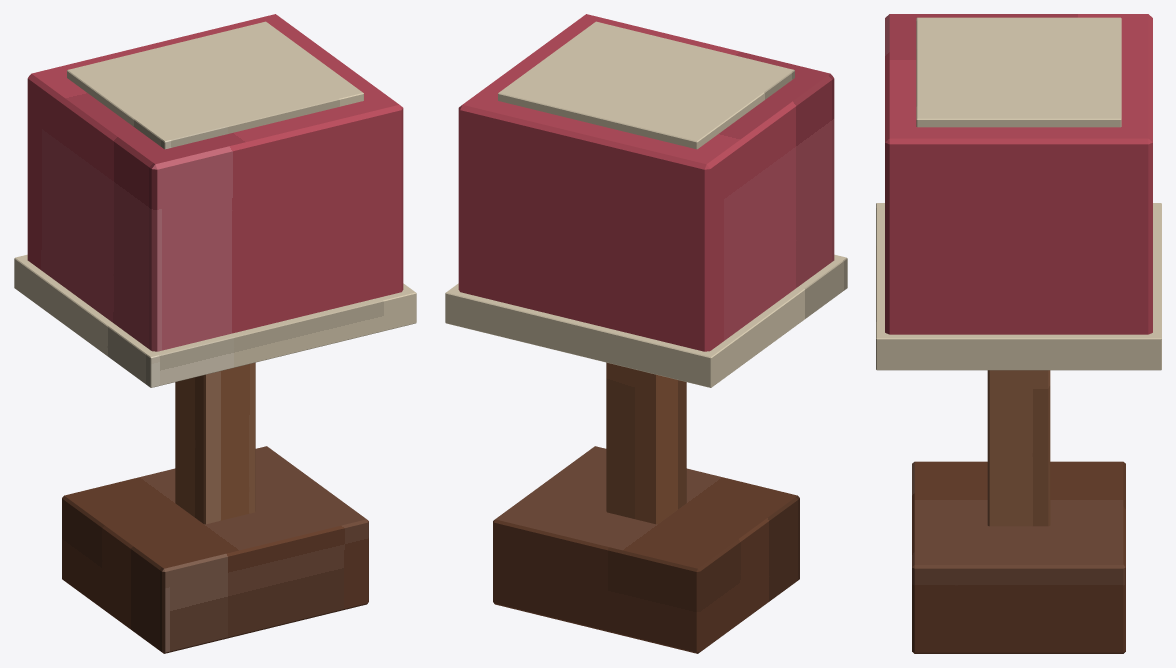
The model's file is bedside_lamp.glb.
3 views of the same model, side by side, from view 1: azimuth 30°, elevation 25°; view 2: azimuth 150°, elevation 25°; view 3: azimuth 270°, elevation 25° (orthographic). The views are drawn at different scales.
Visible parts, largest first — view 1: LampShade, LampBase, ShadeBandTop, ShadeBandBottom, LampStem; view 2: LampShade, LampBase, ShadeBandTop, ShadeBandBottom, LampStem; view 3: LampShade, LampBase, ShadeBandTop, ShadeBandBottom, LampStem.
Part boxes in pixels (<box>): LampShade: <box>27,14,403,351</box>; LampBase: <box>62,446,368,653</box>; ShadeBandTop: <box>67,21,363,149</box>; ShadeBandBottom: <box>14,254,416,387</box>; LampStem: <box>175,362,255,524</box>; LampShade: <box>458,14,834,351</box>; LampBase: <box>493,446,799,653</box>; ShadeBandTop: <box>498,21,794,149</box>; ShadeBandBottom: <box>445,254,847,387</box>; LampStem: <box>606,362,686,524</box>; LampShade: <box>885,14,1152,334</box>; LampBase: <box>912,461,1125,653</box>; ShadeBandTop: <box>916,17,1121,127</box>; ShadeBandBottom: <box>876,203,1161,370</box>; LampStem: <box>987,370,1050,526</box>.
Bounding box in the file's own units: 0.36 × 0.66 × 0.32.
Materials: 1 (1 with a texture image).
